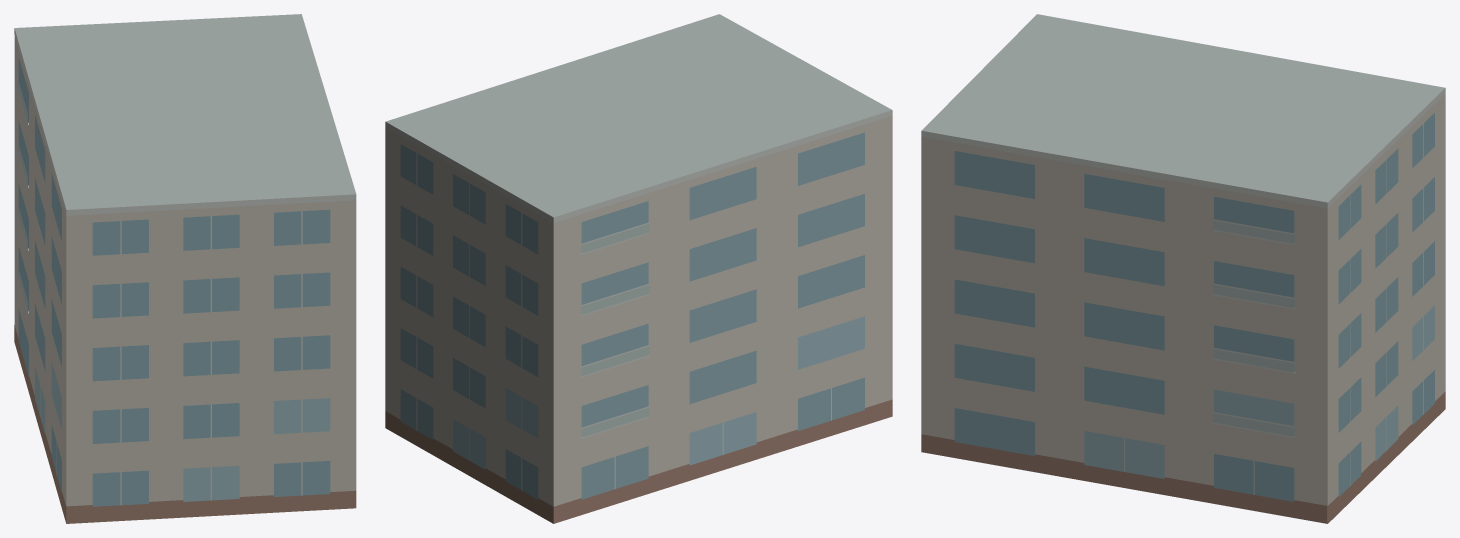
File: survey-upis-32888613.glb
3 views of the same model, side by side, from view 1: azimuth 30°, elevation 25°; view 2: azimuth 150°, elevation 25°; view 3: azimuth 270°, elevation 25° (orthographic). The views are drawn at different scales.
Parts seen in each view (by area): view 1: survey-upis-32888613.tmp; view 2: survey-upis-32888613.tmp; view 3: survey-upis-32888613.tmp.
Part boxes in pixels (x1,y1,x2,y2): survey-upis-32888613.tmp: (14,14,356,523); survey-upis-32888613.tmp: (385,14,892,523); survey-upis-32888613.tmp: (921,14,1445,523).
Size of the model in its own units: 16.62 by 13.2 by 19.52.
